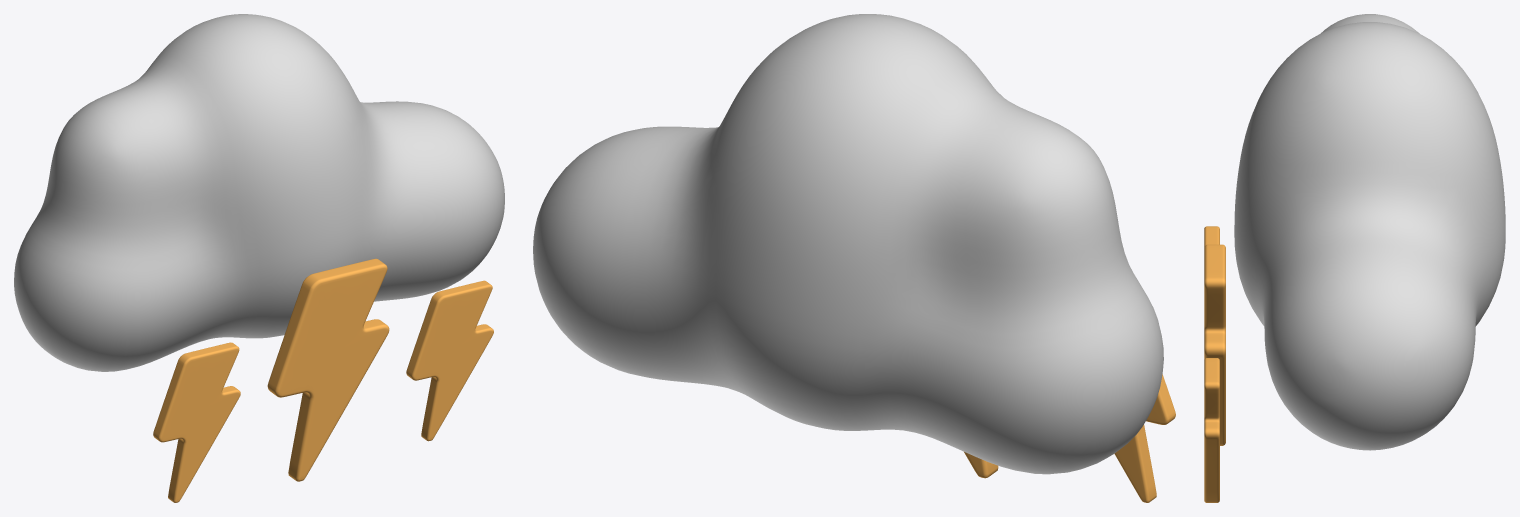
File: thunderstorm.glb
3 renders of one model, left to right at view 1: azimuth 30°, elevation 25°; view 2: azimuth 150°, elevation 25°; view 3: azimuth 270°, elevation 25°, orthographic. The views are drawn at different scales.
Parts seen in each view (by area): view 1: 0023; view 2: 0023; view 3: 0023.
Boxes of the visible parts, bbox=[...] form: 0023: bbox=[14, 14, 504, 502]; 0023: bbox=[533, 14, 1175, 502]; 0023: bbox=[1204, 14, 1505, 502].
Bounding box in the file's own units: 2.34 × 1.91 × 1.23.
